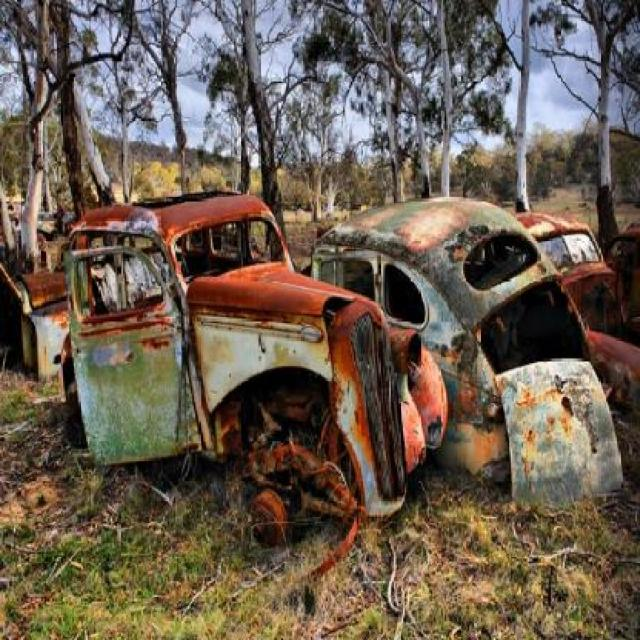corrosion: (60, 188, 640, 547)
